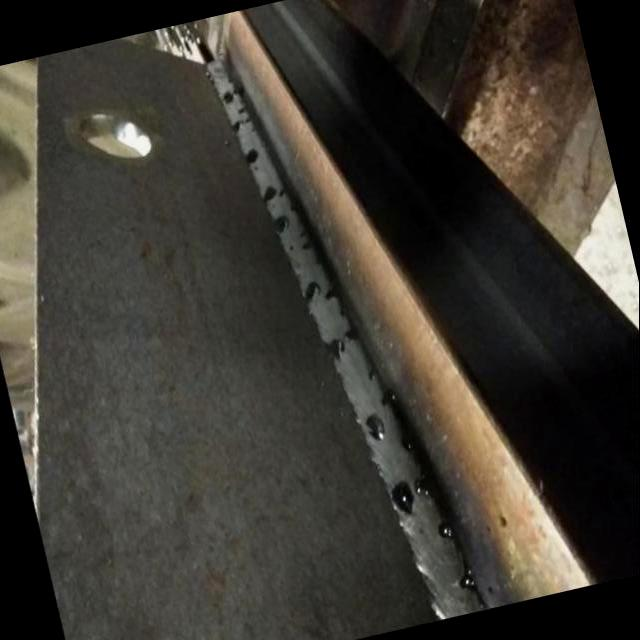defect: (390, 472, 436, 519), (323, 335, 351, 367), (366, 407, 389, 443), (231, 104, 257, 134), (435, 518, 457, 546), (262, 183, 287, 205), (244, 145, 261, 174), (303, 277, 322, 302), (381, 385, 399, 406), (275, 210, 289, 236), (222, 89, 240, 106), (401, 434, 418, 452), (325, 286, 342, 303), (300, 228, 311, 250), (344, 326, 359, 342), (367, 366, 377, 382), (338, 307, 347, 316), (288, 244, 297, 253)
